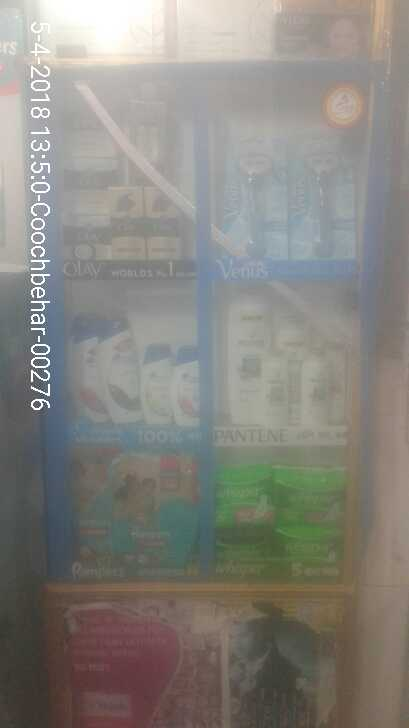venus: (284, 123, 359, 265), (220, 124, 284, 264)
